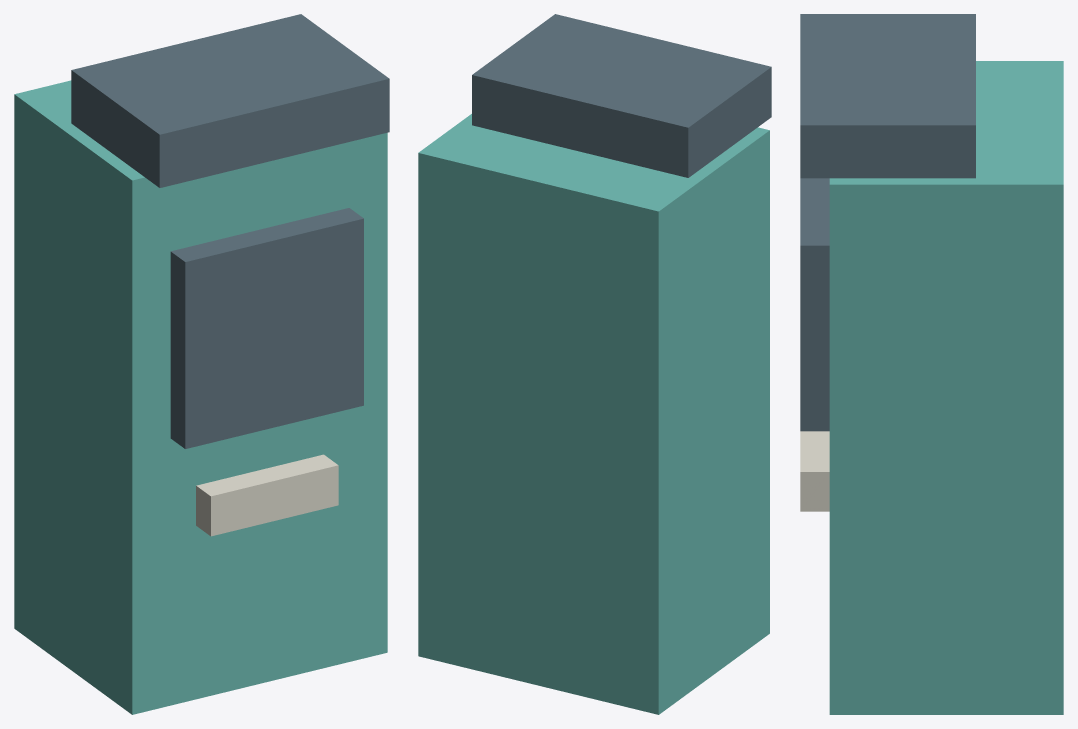
The model's file is voxel-city-districts-cash-machine-585a3488__24884.glb.
3 views of the same model, side by side, from view 1: azimuth 30°, elevation 25°; view 2: azimuth 150°, elevation 25°; view 3: azimuth 270°, elevation 25° (orthographic). The views are drawn at different scales.
Visible parts, largest first — view 1: cash-machine-accent, cash-machine-dark, cash-machine-concrete; view 2: cash-machine-accent, cash-machine-dark; view 3: cash-machine-accent, cash-machine-dark, cash-machine-concrete.
Part boxes in pixels (bbox=[...]): cash-machine-accent: bbox=[14, 80, 387, 714]; cash-machine-dark: bbox=[71, 14, 389, 448]; cash-machine-concrete: bbox=[196, 454, 338, 536]; cash-machine-accent: bbox=[418, 114, 769, 714]; cash-machine-dark: bbox=[472, 14, 771, 177]; cash-machine-accent: bbox=[829, 61, 1063, 714]; cash-machine-dark: bbox=[800, 14, 975, 431]; cash-machine-concrete: bbox=[800, 431, 829, 511].
Bounding box in the file's own units: 1 × 2.2 × 0.8999.
